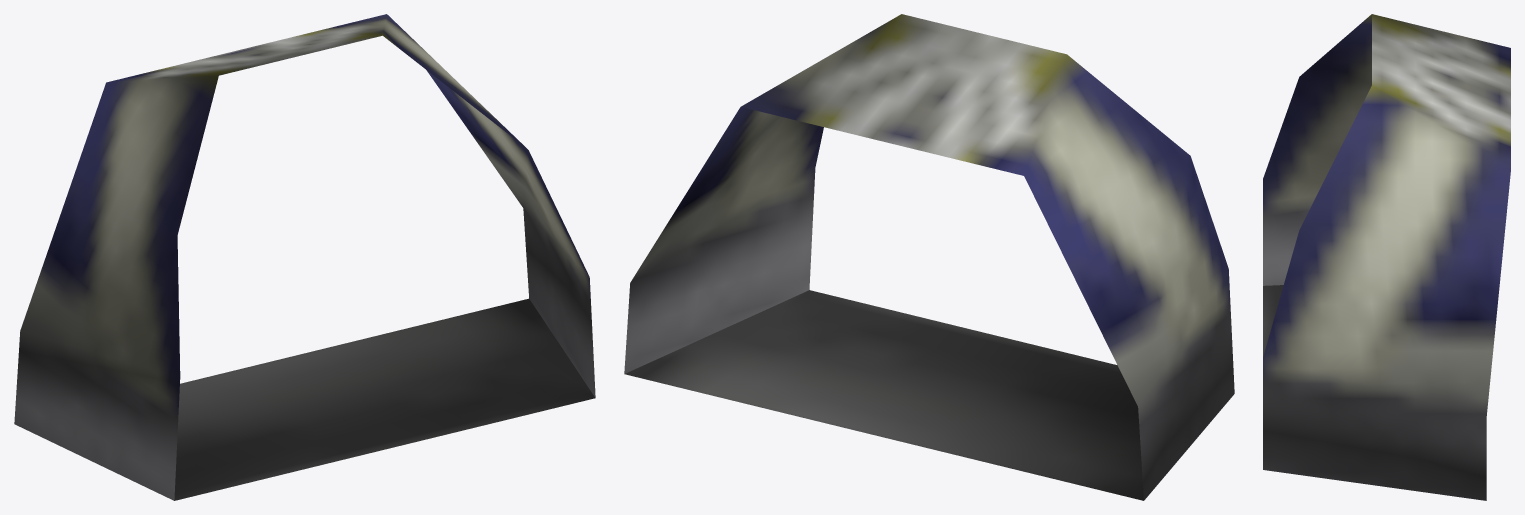
Rendered from batch_0107.obj.
3 renders of one model, left to right at view 1: azimuth 30°, elevation 25°; view 2: azimuth 150°, elevation 25°; view 3: azimuth 270°, elevation 25°, orthographic. The views are drawn at different scales.
Visible parts, largest first — view 1: batch_0107; view 2: batch_0107; view 3: batch_0107.
Part boxes in pixels (left/top/right/bottom): batch_0107: left=14, top=14, right=595, bottom=500; batch_0107: left=624, top=14, right=1234, bottom=500; batch_0107: left=1263, top=14, right=1510, bottom=500.
Size of the model in its own units: 22 by 14.75 by 10.25.
Materials: 1 (1 with a texture image).
